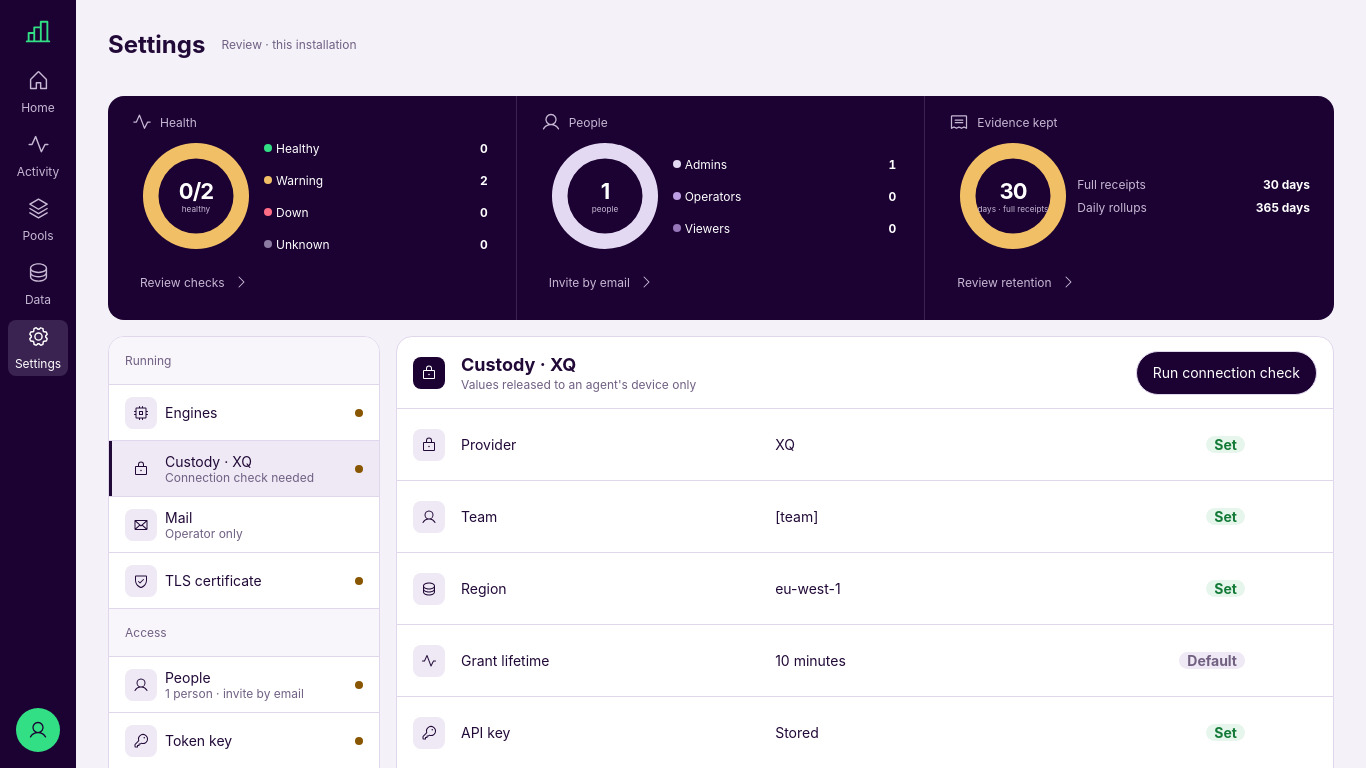
Test: renders safe XQ metadata and all available sections, omitting unsupported identity/mail status and custody counts
What coordinates should you click on to do the following:
click the button "Mail Operator only"
I would click on:
 (244, 525)
Its box is [109,497,379,553].
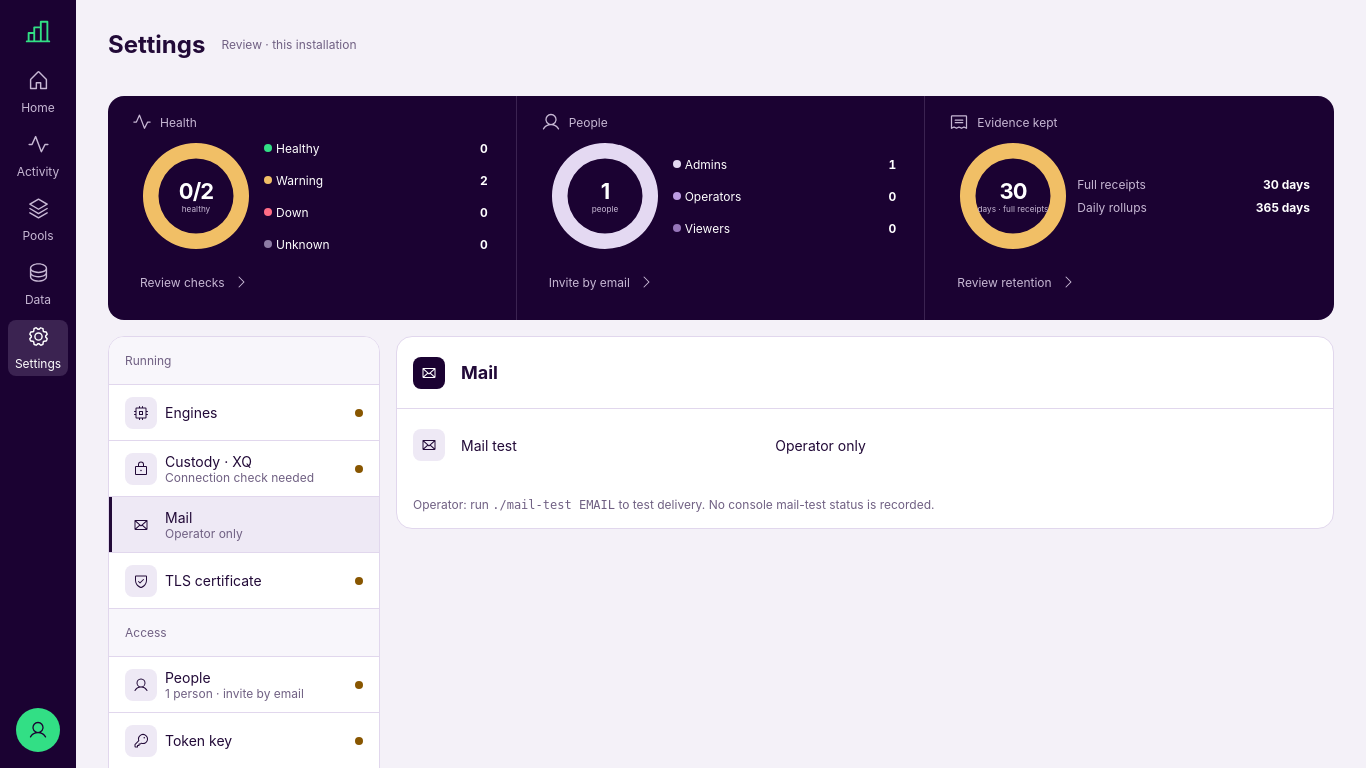
Check: the text "./mail-test EMAIL" is shown, box [492,498,615,512]
